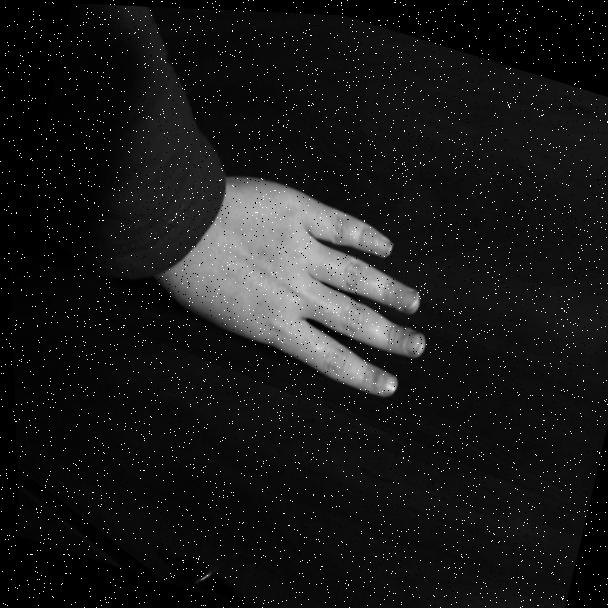four: (128, 126, 467, 417)
